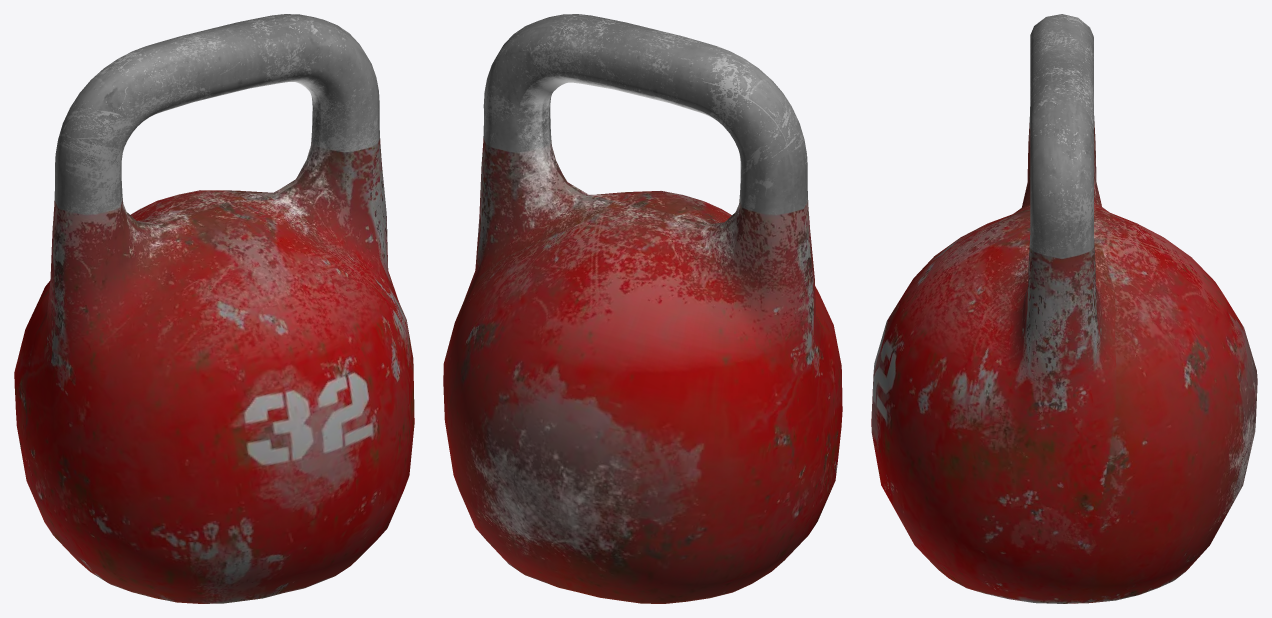
File: kettlebell32.glb
3 views of the same model, side by side, from view 1: azimuth 30°, elevation 25°; view 2: azimuth 150°, elevation 25°; view 3: azimuth 270°, elevation 25° (orthographic). The views are drawn at different scales.
Visible parts, largest first — view 1: kettlebell32; view 2: kettlebell32; view 3: kettlebell32.
Boxes of the visible parts, x1,y1,x2,y2 form: kettlebell32: [14, 14, 414, 603]; kettlebell32: [443, 14, 842, 603]; kettlebell32: [871, 14, 1257, 603].
Size of the model in its own units: 0.1904 by 0.2706 by 0.1908.
1 material, 1 textured.
